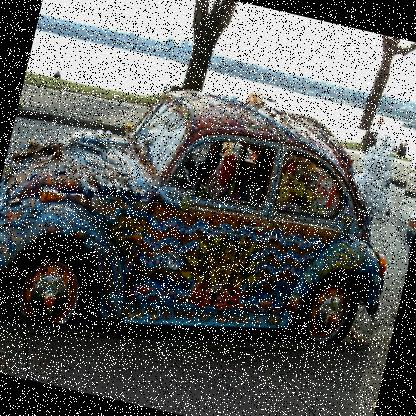Car: (0, 53, 415, 395), (399, 190, 415, 269)
